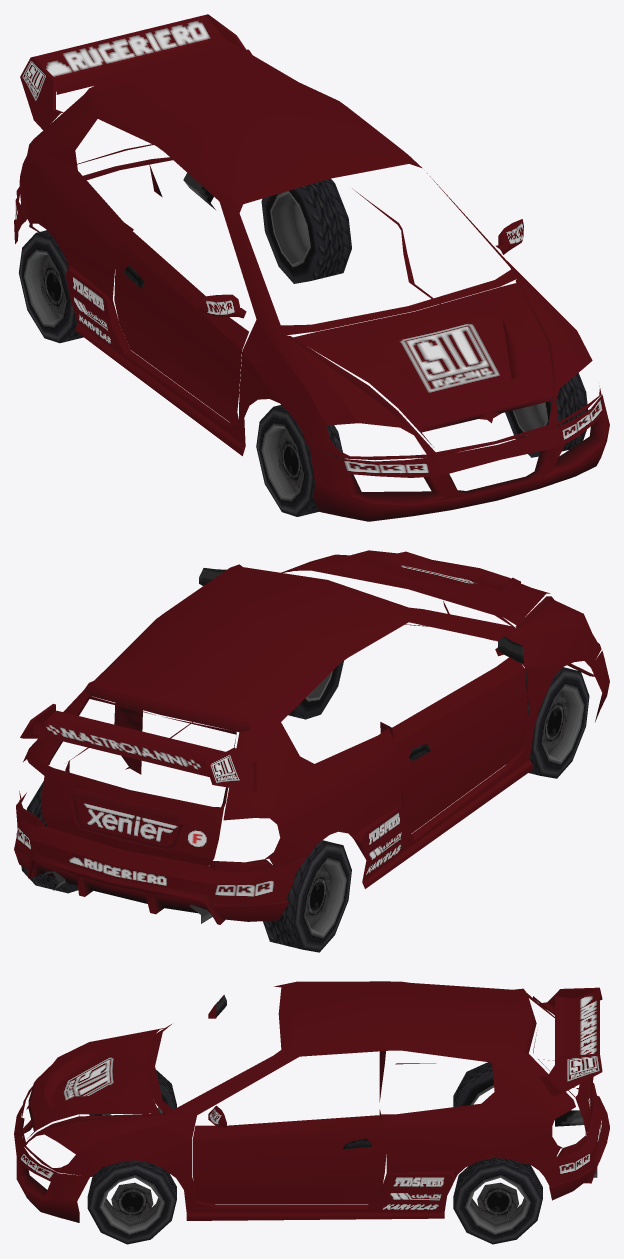
Rendered from car-COMP_Car1.glb.
3 renders of one model, top to bottom at view 1: azimuth 30°, elevation 25°; view 2: azimuth 150°, elevation 25°; view 3: azimuth 270°, elevation 25°, orthographic. The views are drawn at different scales.
Parts seen in each view (by area): view 1: COMP_Car1; view 2: COMP_Car1; view 3: COMP_Car1.
Part boxes in pixels (x1,y1,x2,y2): COMP_Car1: [14, 14, 609, 521]; COMP_Car1: [14, 550, 609, 952]; COMP_Car1: [14, 981, 609, 1244].
Bounding box in the file's own units: 2.01 × 1.43 × 4.15.
19 materials, 19 textured.
